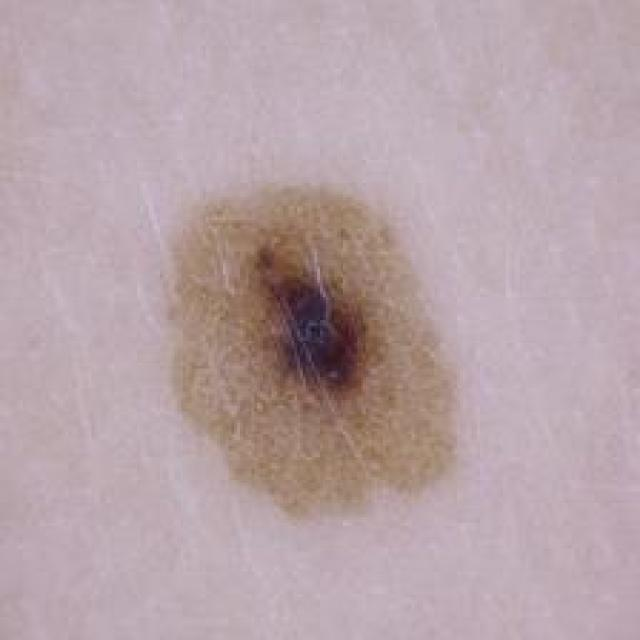Cancer: (160, 177, 460, 523)
